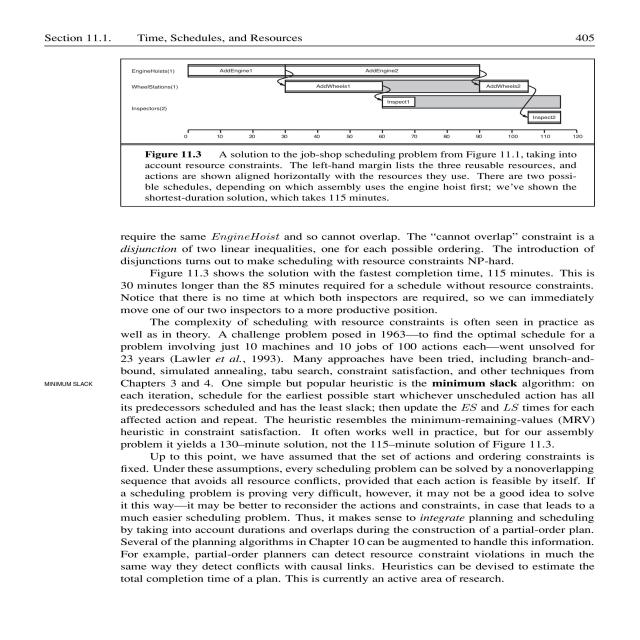diagram: (118, 53, 608, 210)
